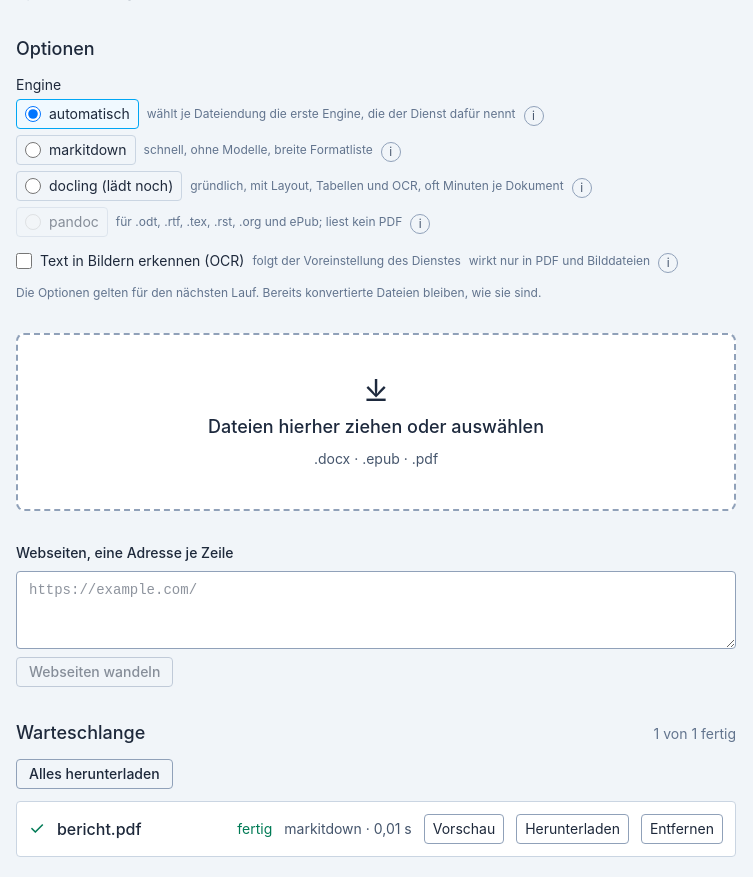
Test: App › meldet einen gescheiterten Archivbau als alert
The width and height of the screenshot is (753, 877).
(page scrolled)
Click the button with test id "download-all".
click(94, 774)  # box left=16, top=759, right=173, bottom=789
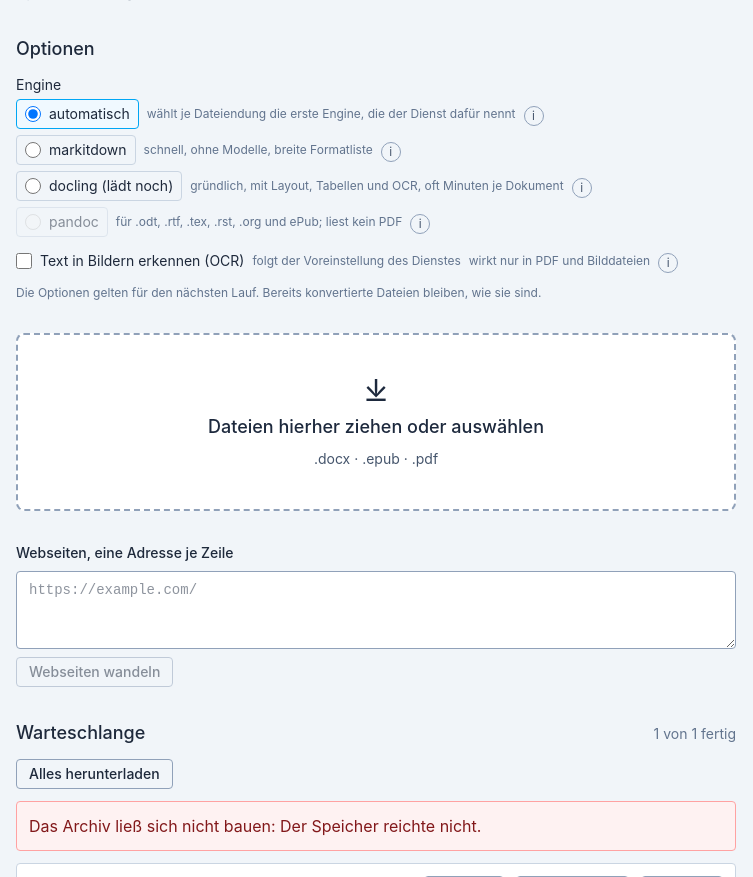
Now the message with test id "archive-error" shows "Der Speicher reichte nicht.", box left=29, top=816, right=481, bottom=836
